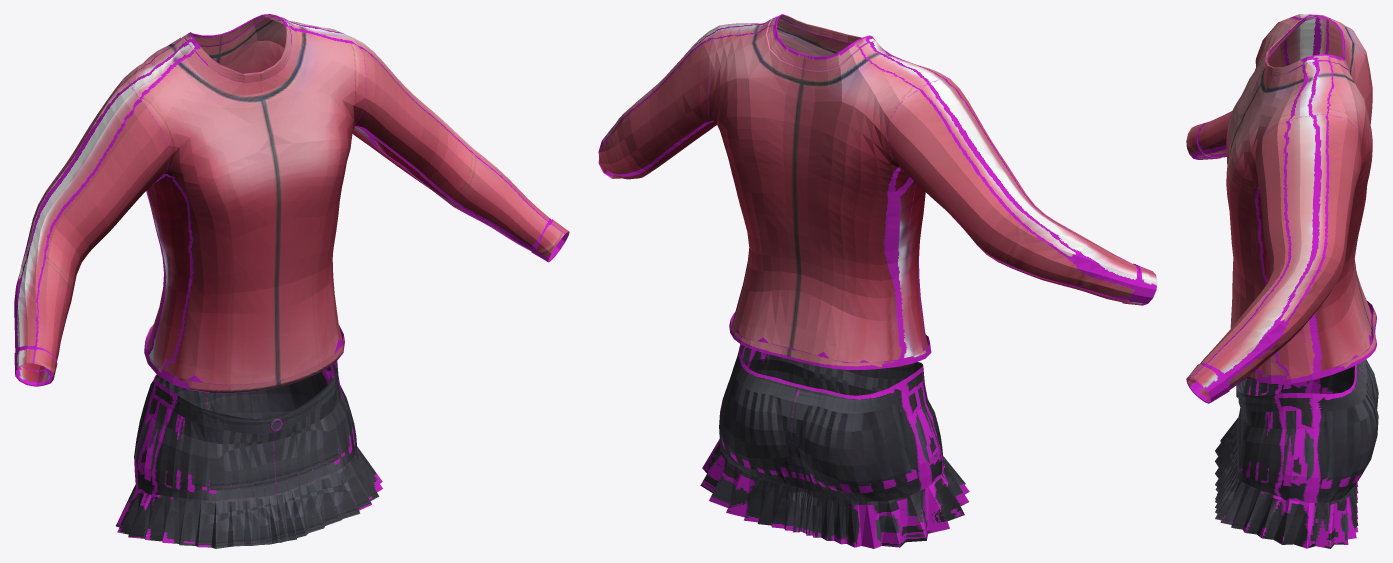
3 views of the same model, side by side, from view 1: azimuth 30°, elevation 25°; view 2: azimuth 150°, elevation 25°; view 3: azimuth 270°, elevation 25° (orthographic). The views are drawn at different scales.
Size of the model in its own units: 1.16 by 0.9837 by 0.3625.
1 material, 1 textured.
